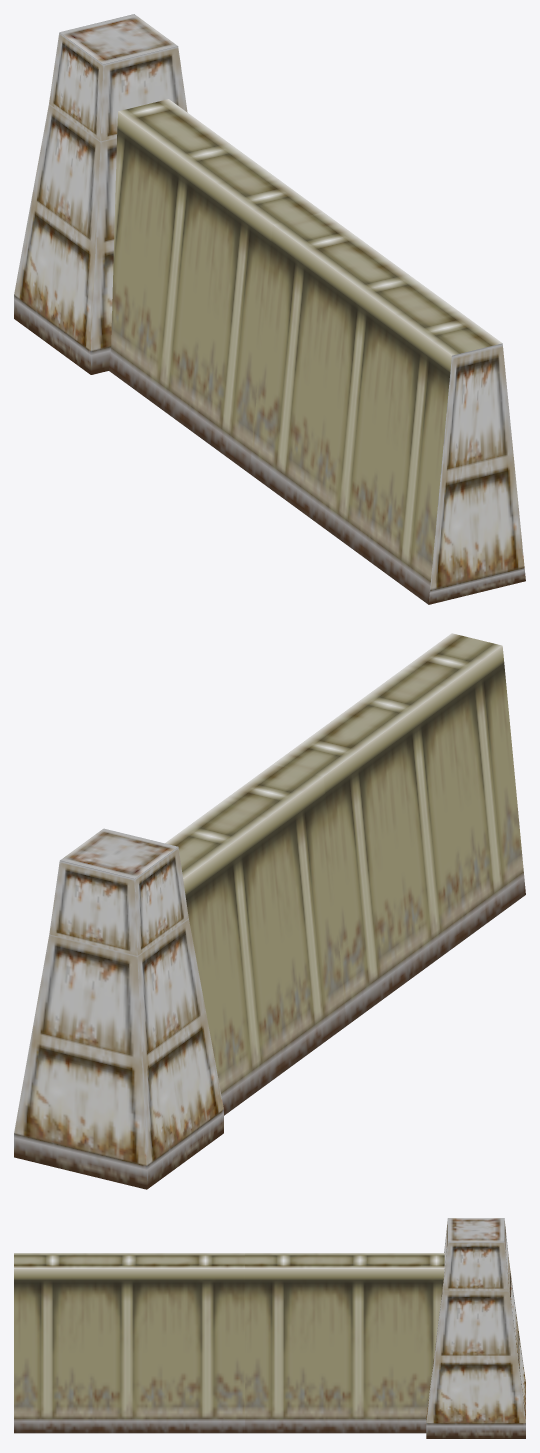
File: d_mediumwall.glb
3 views of the same model, one above another, from view 1: azimuth 30°, elevation 25°; view 2: azimuth 150°, elevation 25°; view 3: azimuth 270°, elevation 25° (orthographic). The views are drawn at different scales.
Parts seen in each view (by area): view 1: D_MediumWall; view 2: D_MediumWall; view 3: D_MediumWall.
Part boxes in pixels (x1,y1,x2,y2): D_MediumWall: (14,14,525,604); D_MediumWall: (14,633,525,1189); D_MediumWall: (14,1218,525,1438).
Size of the model in its own units: 5.48 by 11.5 by 28.37.
1 material, 1 textured.
